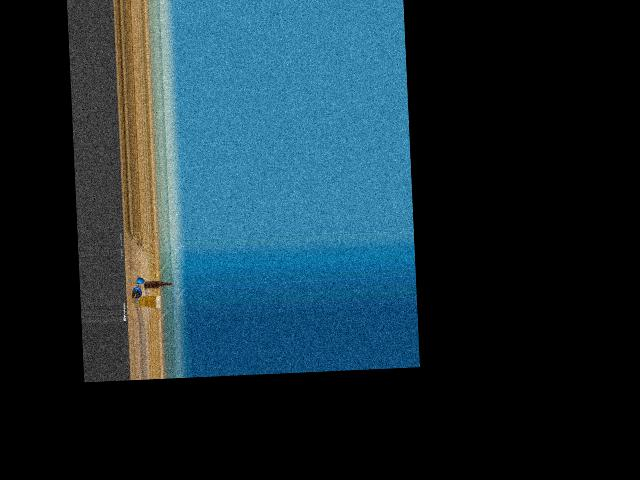beer: (144, 280, 172, 288)
